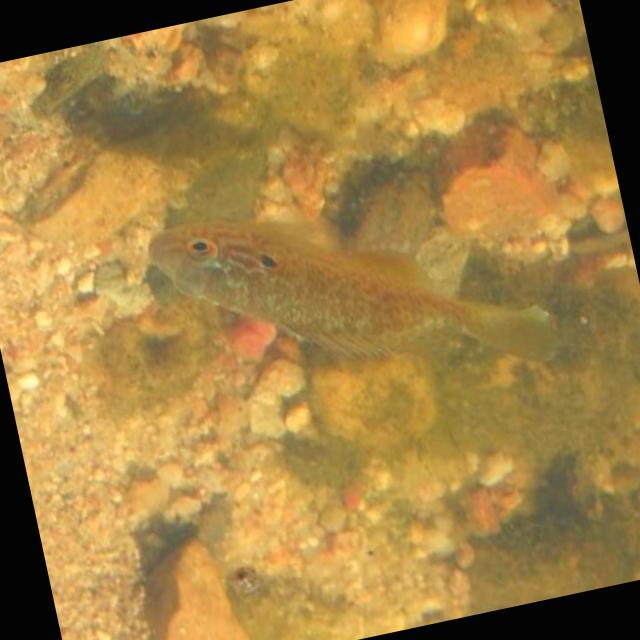Gunes Levregi: (140, 150, 558, 442)
